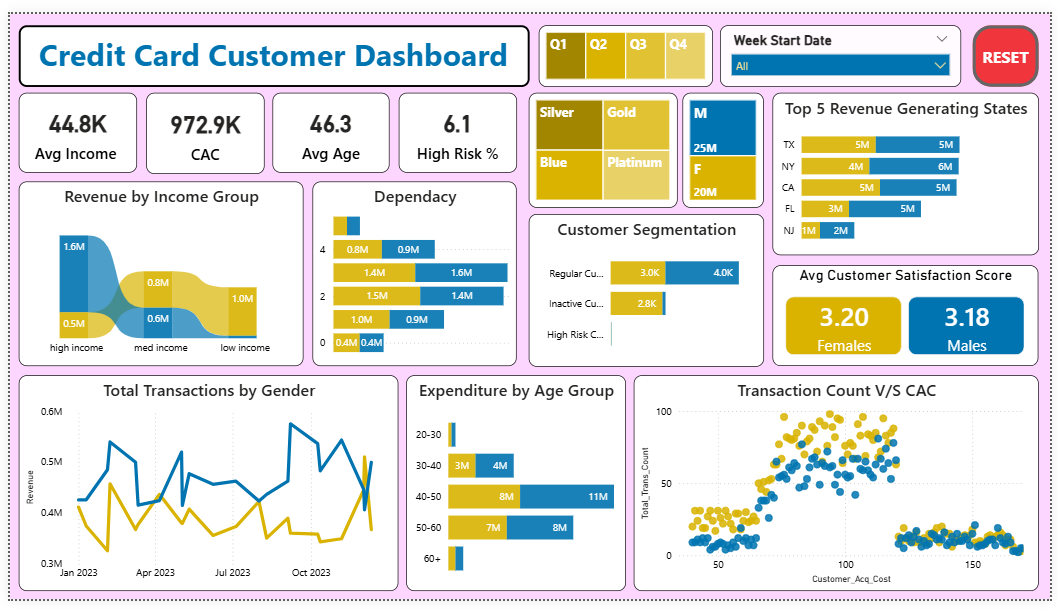

The page's visual inventory and layout, read from the dashboard file:
{"tool":"powerbi","page":{"name":"CC Customer","canvas":[1280,720],"ordinal":1},"visuals":[{"type":"ribbonChart","title":"Revenue by Income Group ","fields":{"Category":["customer.Income_Group"],"Series":["customer.Gender"],"Y":["Sum(credit_card.rev)"]},"box":[11.4,205.7,350,227.1],"z":0},{"type":"textbox","box":[11.4,14.3,628.6,75.7],"z":1000},{"type":"card","fields":{"Values":["credit_card.High Risk %"]},"box":[478.6,97.1,145.7,98.6],"z":2000},{"type":"card","fields":{"Values":["Median(customer.Income)"]},"box":[11.1,96.3,145.7,98.8],"z":3000},{"type":"card","fields":{"Values":["Avg(customer.Customer_Age)"]},"box":[323.7,97.1,144.3,98.6],"z":4000},{"type":"card","fields":{"Values":["Sum(credit_card.Customer_Acq_Cost)"]},"box":[167.4,97.5,145.7,100],"z":5000},{"type":"treemap","fields":{"Group":["credit_card.Qtr"],"Values":["Count(credit_card.Qtr)"]},"box":[650,14.3,214.3,75.7],"z":6000},{"type":"treemap","fields":{"Group":["customer.Gender"],"Values":["Sum(credit_card.Total_Trans_Amt)"]},"box":[827.7,96.9,100,141.5],"z":7000},{"type":"barChart","title":"Top 5 Revenue Generating States","fields":{"Category":["customer.state_cd"],"Series":["customer.Gender"],"Y":["Sum(credit_card.Total_Trans_Amt)"]},"box":[938.5,96.9,327.7,200],"z":8000},{"type":"treemap","fields":{"Values":["Avg(credit_card.Client_Num)"],"Group":["credit_card.Card_Category"]},"box":[638.6,97.1,182.9,141.4],"z":9000},{"type":"slicer","fields":{"Values":["credit_card.Week_Start_Date"]},"box":[874.3,14.3,297.1,75.7],"z":10000},{"type":"actionButton","box":[1184.3,14.3,81.4,75.7],"z":11000},{"type":"lineChart","title":"Total Transactions by Gender","fields":{"Category":["credit_card.Week_Start_Date.Variation.Date Hierarchy.Year","credit_card.Week_Start_Date.Variation.Date Hierarchy.Month","credit_card.Week_Start_Date.Variation.Date Hierarchy.Day"],"Series":["customer.Gender"],"Y":["Sum(credit_card.Total_Trans_Amt)"]},"box":[11.4,444.3,467.1,265.7],"z":12000},{"type":"barChart","title":"Expenditure by Age Group","fields":{"Category":["customer.Age_Group"],"Series":["customer.Gender"],"Y":["Sum(credit_card.Total_Trans_Amt)"]},"box":[487.1,444.3,270,265.7],"z":13000},{"type":"barChart","title":"Dependacy","fields":{"Series":["customer.Gender"],"Category":["customer.Dependent_Count"],"Y":["Sum(credit_card.rev)"]},"box":[372.9,205.7,251.4,227.1],"z":14000},{"type":"scatterChart","title":"Transaction Count V/S CAC","fields":{"X":["credit_card.Customer_Acq_Cost"],"Y":["CountNonNull(credit_card.Total_Trans_Vol)"],"Series":["customer.Gender"]},"box":[767.1,444.3,498.6,265.7],"z":15000},{"type":"cardVisual","title":"Avg Customer Satisfaction Score","fields":{"Data":["customer.F_css","customer.M_css"]},"box":[938.6,308.6,327.1,124.3],"z":16000},{"type":"barChart","title":"Customer Segmentation","fields":{"Category":["credit_card.Customer Segment"],"Series":["customer.Gender"],"Y":["CountNonNull(customer.Client_Num)"]},"box":[638.5,246.2,289.2,187.7],"z":17000}]}

Visuals, with their boxes in screenshot pixels (x1, y1, x2, y2), scaled from the page's 1280x720 canvas onto the 1058x609 screenshot:
"Revenue by Income Group " ribbonChart: rect(9, 174, 299, 366)
textbox: rect(9, 12, 529, 76)
card - credit_card.High Risk %: rect(396, 82, 516, 166)
card - Median(customer.Income): rect(9, 81, 130, 165)
card - Avg(customer.Customer_Age): rect(268, 82, 387, 166)
card - Sum(credit_card.Customer_Acq_Cost): rect(138, 82, 259, 167)
treemap - credit_card.Qtr x Count(credit_card.Qtr): rect(537, 12, 714, 76)
treemap - customer.Gender x Sum(credit_card.Total_Trans_Amt): rect(684, 82, 767, 202)
"Top 5 Revenue Generating States" barChart: rect(776, 82, 1047, 251)
treemap - Avg(credit_card.Client_Num) x credit_card.Card_Category: rect(528, 82, 679, 202)
slicer - credit_card.Week_Start_Date: rect(723, 12, 968, 76)
actionButton: rect(979, 12, 1046, 76)
"Total Transactions by Gender" lineChart: rect(9, 376, 396, 601)
"Expenditure by Age Group" barChart: rect(403, 376, 626, 601)
"Dependacy" barChart: rect(308, 174, 516, 366)
"Transaction Count V/S CAC" scatterChart: rect(634, 376, 1046, 601)
"Avg Customer Satisfaction Score" cardVisual: rect(776, 261, 1046, 366)
"Customer Segmentation" barChart: rect(528, 208, 767, 367)
